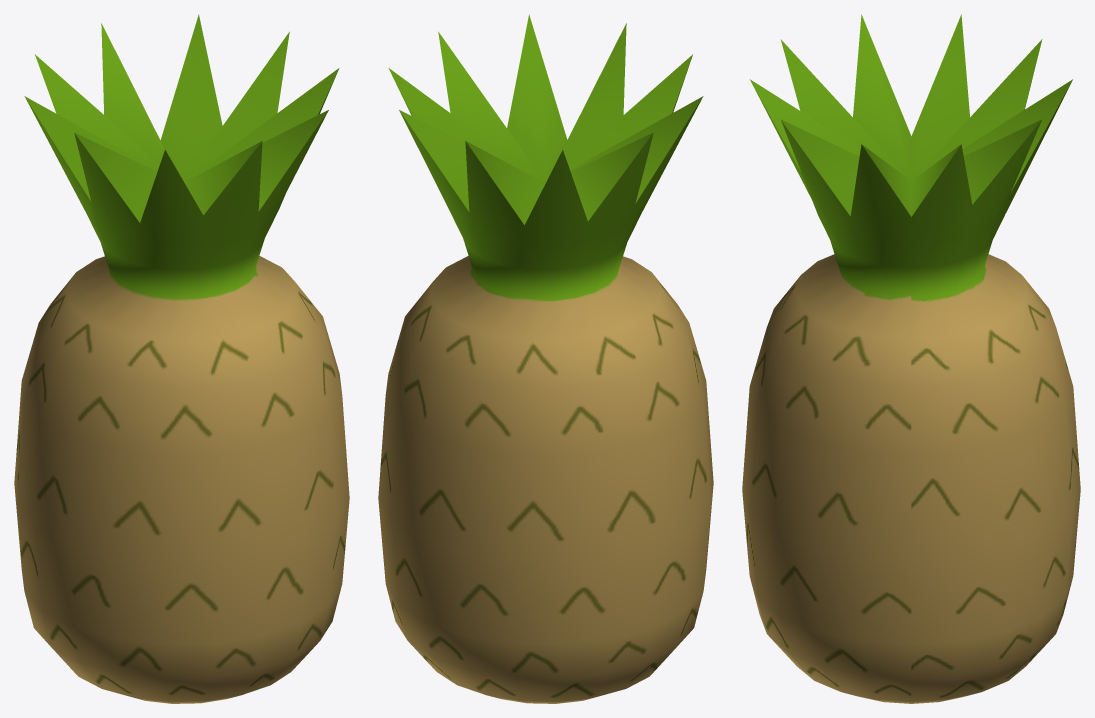
Rendered from pineapple.fbx.
3 renders of one model, left to right at view 1: azimuth 30°, elevation 25°; view 2: azimuth 150°, elevation 25°; view 3: azimuth 270°, elevation 25°, orthographic.
Parts seen in each view (by area): view 1: pCylinder1; view 2: pCylinder1; view 3: pCylinder1.
Part boxes in pixels (x1,y1,x2,y2): pCylinder1: (14, 14, 349, 703); pCylinder1: (378, 14, 713, 703); pCylinder1: (742, 14, 1080, 703).
Bounding box in the file's own units: 2.09 × 4 × 2.09.
